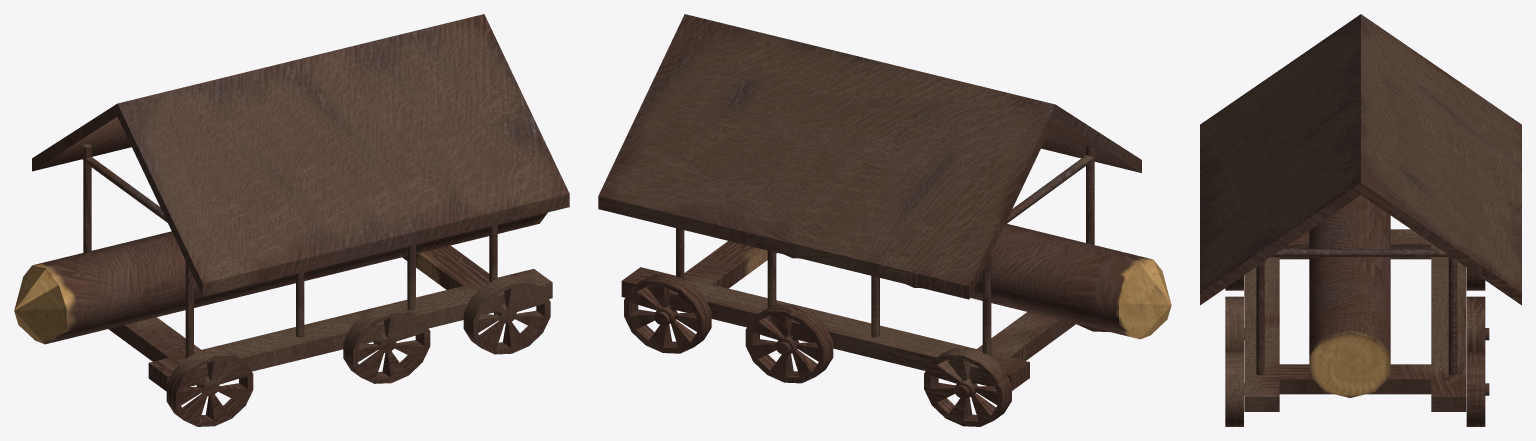
The model's file is barren.fbx.
The picture shows the model from 3 angles, left to right: view 1: azimuth 30°, elevation 25°; view 2: azimuth 150°, elevation 25°; view 3: azimuth 270°, elevation 25°; orthographic projection. The views are drawn at different scales.
Parts seen in each view (by area): view 1: Cylinder__15_:Cube, Cylinder__15_:Cylinder_6_, Cylinder__15_:Cube_2_, Cylinder__15_:Cylinder_14_, Cylinder__15_:Cylinder_13_, Cylinder__15_:Cylinder_15_, Cylinder__15_:Cube_4_, Cylinder__15_:Cube_3_, Cylinder__15_:Cylinder_2_, Cylinder__15_:Cylinder_4_, Cylinder__15_:Cylinder_3_, Cylinder__15_:Cylinder_9_ (+1 smaller); view 2: Cylinder__15_:Cube, Cylinder__15_:Cylinder_6_, Cylinder__15_:Cube_1_, Cylinder__15_:Cylinder_11_, Cylinder__15_:Cylinder_12_, Cylinder__15_:Cylinder_5_1, Cylinder__15_:Cube_4_, Cylinder__15_:Cube_3_, Cylinder__15_:Cylinder_4_, Cylinder__15_:Cylinder_2_, Cylinder__15_:Cylinder_3_, Cylinder__15_:Cylinder_7_ (+1 smaller); view 3: Cylinder__15_:Cube, Cylinder__15_:Cylinder_6_, Cylinder__15_:Cube_1_, Cylinder__15_:Cube_2_, Cylinder__15_:Cube_3_, Cylinder__15_:Cylinder_12_, Cylinder__15_:Cylinder_5_, Cylinder__15_:Cylinder_15_, Cylinder__15_:Cube_4_, Cylinder__15_:Cylinder, Cylinder__15_:Cylinder_11_, Cylinder__15_:Cylinder_14_ (+2 smaller).
Part boxes in pixels (x1,y1,x2,y2): Cylinder__15_:Cube: (32, 14, 569, 296); Cylinder__15_:Cylinder_6_: (14, 212, 547, 344); Cylinder__15_:Cube_2_: (148, 269, 552, 391); Cylinder__15_:Cylinder_14_: (343, 305, 430, 383); Cylinder__15_:Cylinder_13_: (166, 348, 253, 426); Cylinder__15_:Cylinder_15_: (463, 276, 550, 354); Cylinder__15_:Cube_4_: (108, 317, 201, 364); Cylinder__15_:Cube_3_: (402, 245, 489, 289); Cylinder__15_:Cylinder_2_: (83, 144, 91, 252); Cylinder__15_:Cylinder_4_: (82, 157, 167, 222); Cylinder__15_:Cylinder_3_: (185, 261, 193, 358); Cylinder__15_:Cylinder_9_: (296, 272, 304, 337); Cylinder__15_:Cube: (598, 14, 1141, 299); Cylinder__15_:Cylinder_6_: (970, 224, 1171, 339); Cylinder__15_:Cube_1_: (621, 267, 1029, 390); Cylinder__15_:Cylinder_11_: (745, 304, 833, 383); Cylinder__15_:Cylinder_12_: (624, 274, 711, 353); Cylinder__15_:Cylinder_5_1: (924, 347, 1011, 426); Cylinder__15_:Cube_4_: (977, 312, 1075, 364); Cylinder__15_:Cube_3_: (684, 241, 776, 288); Cylinder__15_:Cylinder_4_: (1004, 155, 1094, 225); Cylinder__15_:Cylinder_2_: (982, 254, 991, 356); Cylinder__15_:Cylinder_3_: (1086, 146, 1094, 244); Cylinder__15_:Cylinder_7_: (767, 250, 776, 307); Cylinder__15_:Cube: (1200, 14, 1521, 305); Cylinder__15_:Cylinder_6_: (1309, 195, 1390, 397); Cylinder__15_:Cube_1_: (1431, 243, 1466, 411); Cylinder__15_:Cube_2_: (1244, 257, 1279, 411); Cylinder__15_:Cube_3_: (1274, 364, 1435, 394); Cylinder__15_:Cylinder_12_: (1466, 352, 1489, 426); Cylinder__15_:Cylinder_5_: (1270, 249, 1451, 257); Cylinder__15_:Cylinder_15_: (1225, 352, 1244, 426); Cylinder__15_:Cube_4_: (1279, 229, 1431, 259); Cylinder__15_:Cylinder: (1448, 257, 1457, 375); Cylinder__15_:Cylinder_11_: (1466, 296, 1489, 351); Cylinder__15_:Cylinder_14_: (1225, 296, 1244, 351).
Bounding box in the file's own units: 14.1 × 7.27 × 8.15.
1 material, 1 textured.
